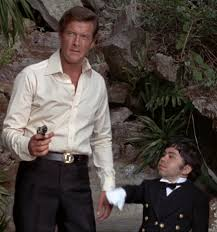F_belt: (29, 144, 97, 171)
F_dress pants: (10, 154, 100, 230)
F_shirt: (3, 51, 122, 205)
